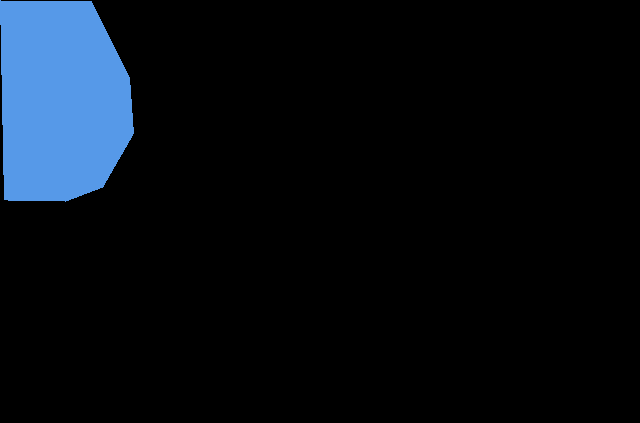Airplane: (0, 0, 133, 201)
